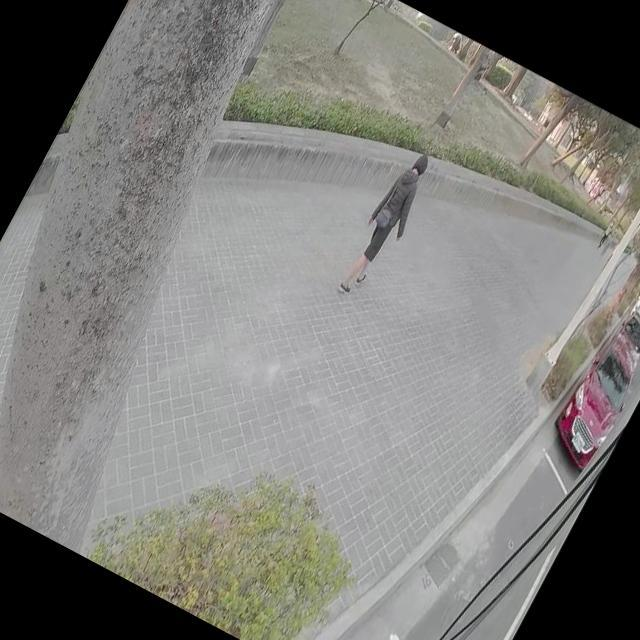person: (333, 146, 439, 301), (597, 219, 615, 245), (602, 224, 620, 250)
